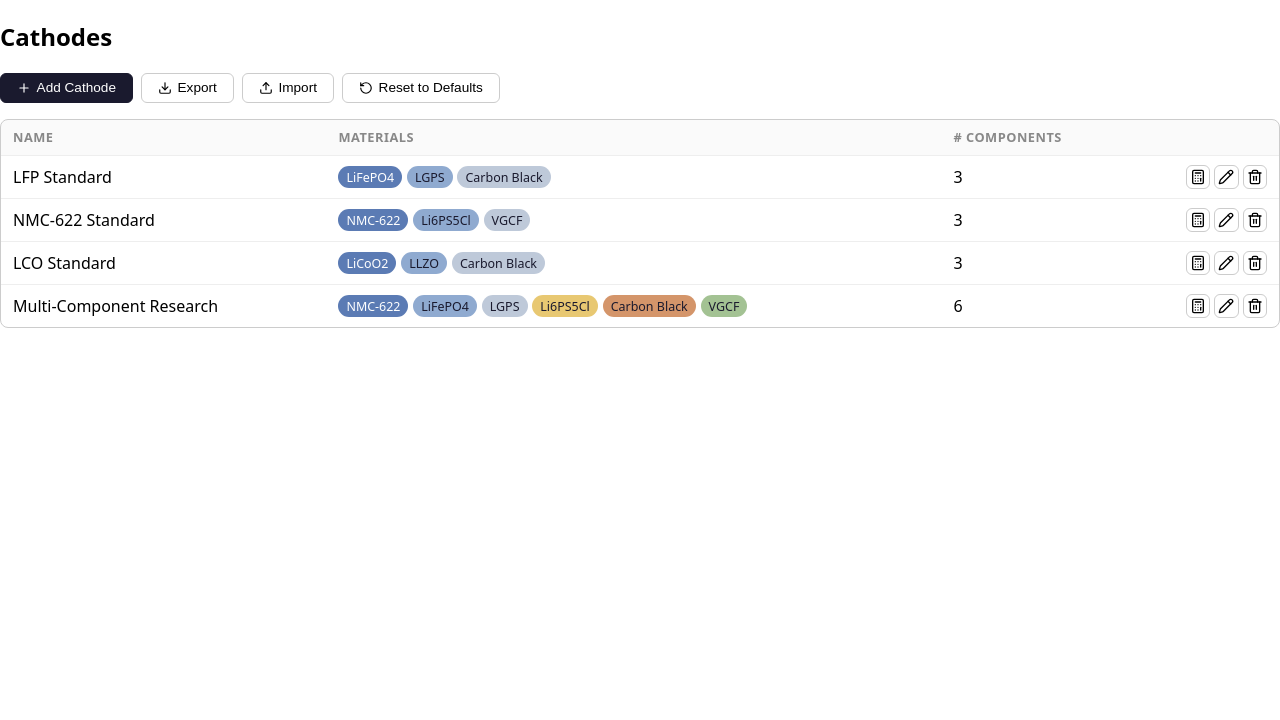
it: CathodesView › opens cathode form in a modal when Add Cathode is clicked
The width and height of the screenshot is (1280, 720).
Click the button "Add Cathode": [66, 88] box [0,73,133,103]
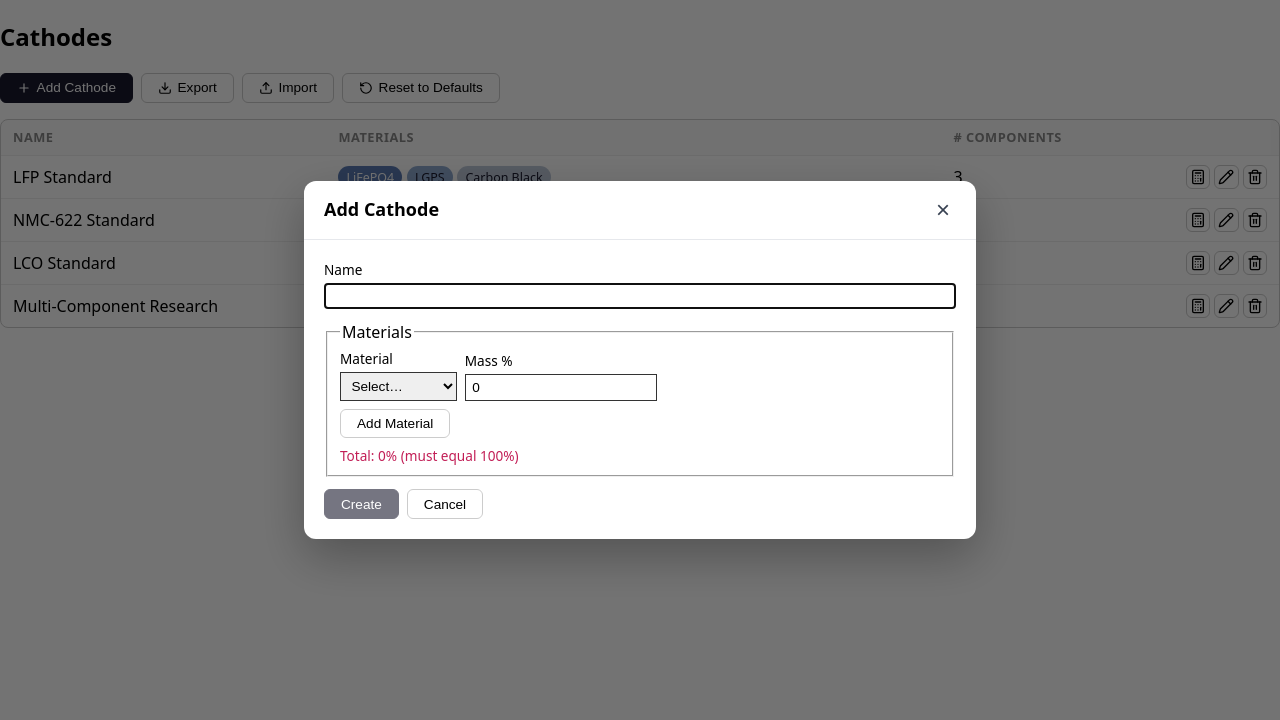
Result: the dialog "Add Cathode" is shown at [304,181,976,539]
Result: the field labelled "Name" is shown at [324,283,956,309]
